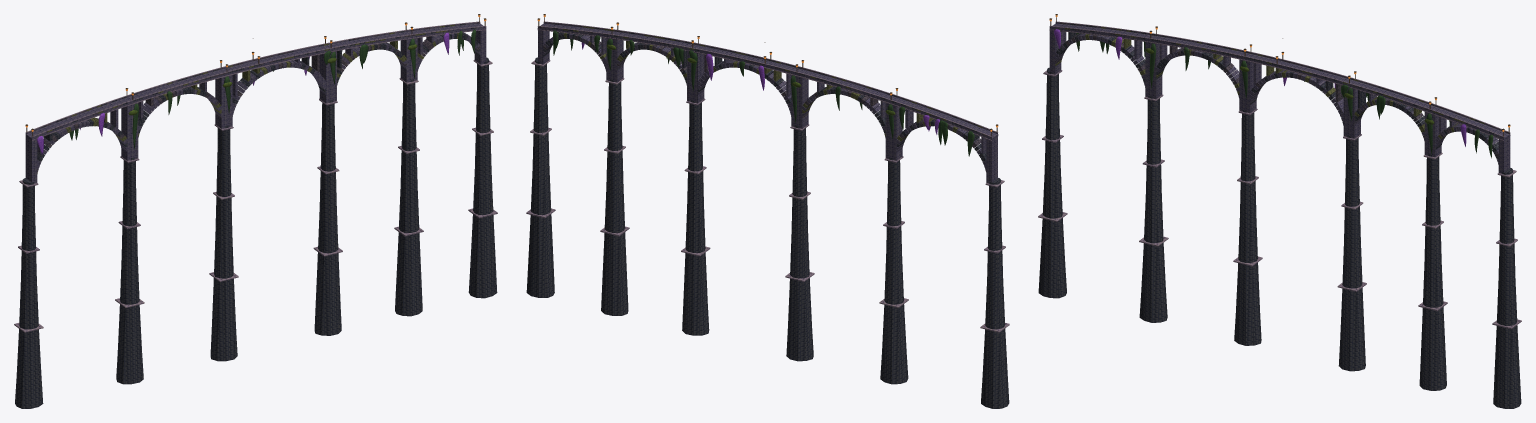
The model's file is stone_viaduct_sweep.glb.
3 views of the same model, side by side, from view 1: azimuth 30°, elevation 25°; view 2: azimuth 150°, elevation 25°; view 3: azimuth 330°, elevation 25° (orthographic).
Parts seen in each view (by area): view 1: stone_viaduct_sweep_stone_wet, stone_viaduct_sweep_stone, stone_viaduct_sweep_stone_light, stone_viaduct_sweep_leaf, stone_viaduct_sweep_granite, stone_viaduct_sweep_stone_lichen; view 2: stone_viaduct_sweep_stone_wet, stone_viaduct_sweep_stone, stone_viaduct_sweep_stone_light, stone_viaduct_sweep_leaf, stone_viaduct_sweep_stone_lichen, stone_viaduct_sweep_granite; view 3: stone_viaduct_sweep_stone_wet, stone_viaduct_sweep_stone, stone_viaduct_sweep_stone_light, stone_viaduct_sweep_leaf, stone_viaduct_sweep_stone_lichen, stone_viaduct_sweep_granite.
Boxes of the visible parts, x1,y1,x2,y2 form: stone_viaduct_sweep_stone_wet: [15, 23, 497, 408]; stone_viaduct_sweep_stone: [25, 22, 486, 183]; stone_viaduct_sweep_stone_light: [14, 21, 497, 332]; stone_viaduct_sweep_leaf: [43, 29, 476, 151]; stone_viaduct_sweep_granite: [31, 22, 480, 172]; stone_viaduct_sweep_stone_lichen: [37, 24, 458, 173]; stone_viaduct_sweep_stone_wet: [526, 23, 1009, 408]; stone_viaduct_sweep_stone: [537, 22, 998, 183]; stone_viaduct_sweep_stone_light: [526, 21, 1009, 332]; stone_viaduct_sweep_leaf: [553, 30, 974, 156]; stone_viaduct_sweep_stone_lichen: [563, 26, 982, 141]; stone_viaduct_sweep_granite: [538, 26, 986, 171]; stone_viaduct_sweep_stone_wet: [1038, 23, 1521, 408]; stone_viaduct_sweep_stone: [1049, 22, 1510, 173]; stone_viaduct_sweep_stone_light: [1038, 21, 1521, 329]; stone_viaduct_sweep_leaf: [1076, 33, 1493, 158]; stone_viaduct_sweep_stone_lichen: [1055, 27, 1484, 138]; stone_viaduct_sweep_granite: [1055, 22, 1510, 156].
Bounding box in the file's own units: 569 × 350 × 25.47.
Materials: 10 (10 with a texture image).
